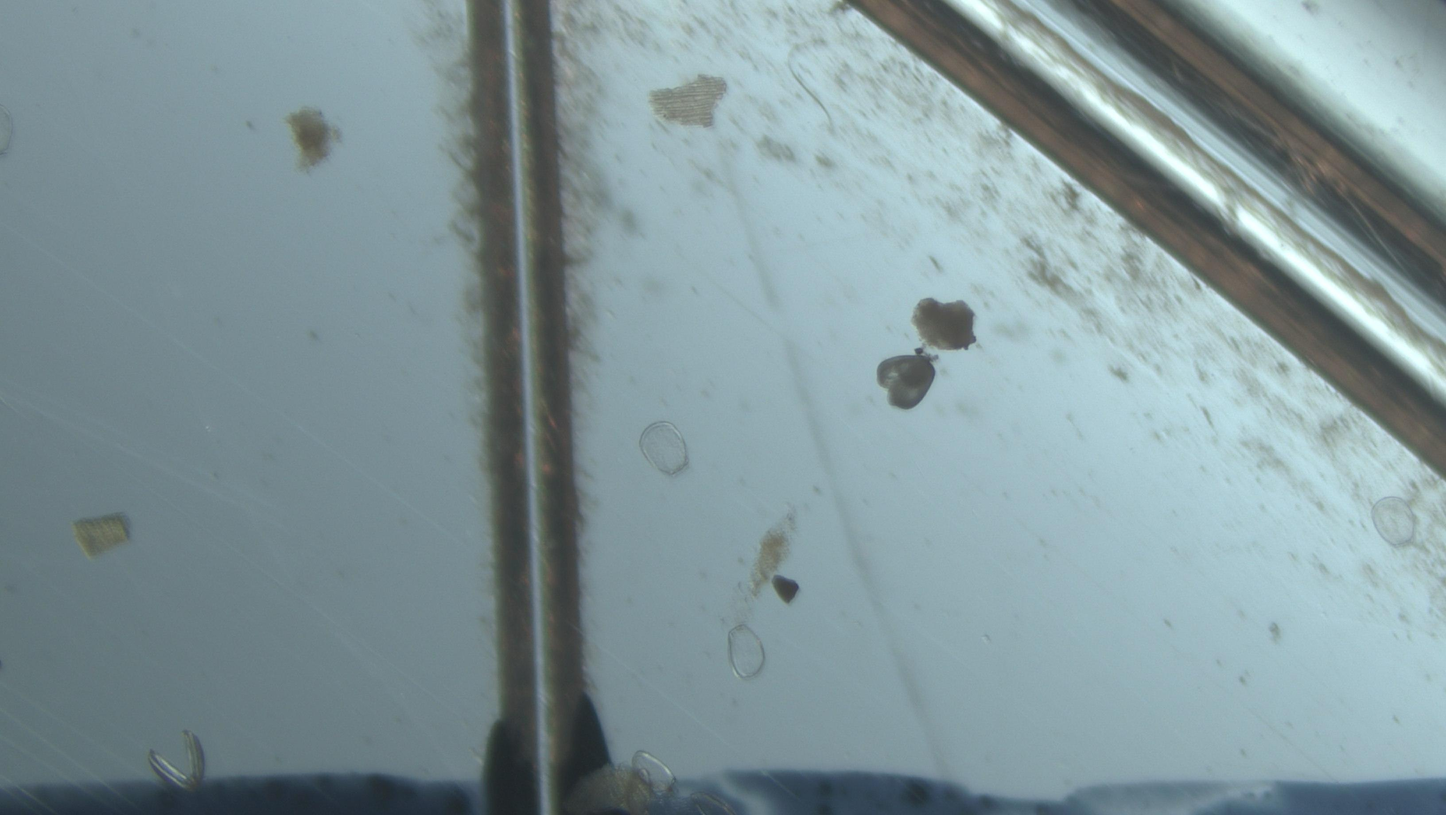dead: (639, 422, 689, 476), (1372, 497, 1416, 547), (728, 623, 766, 679)
live: (878, 355, 936, 410)
